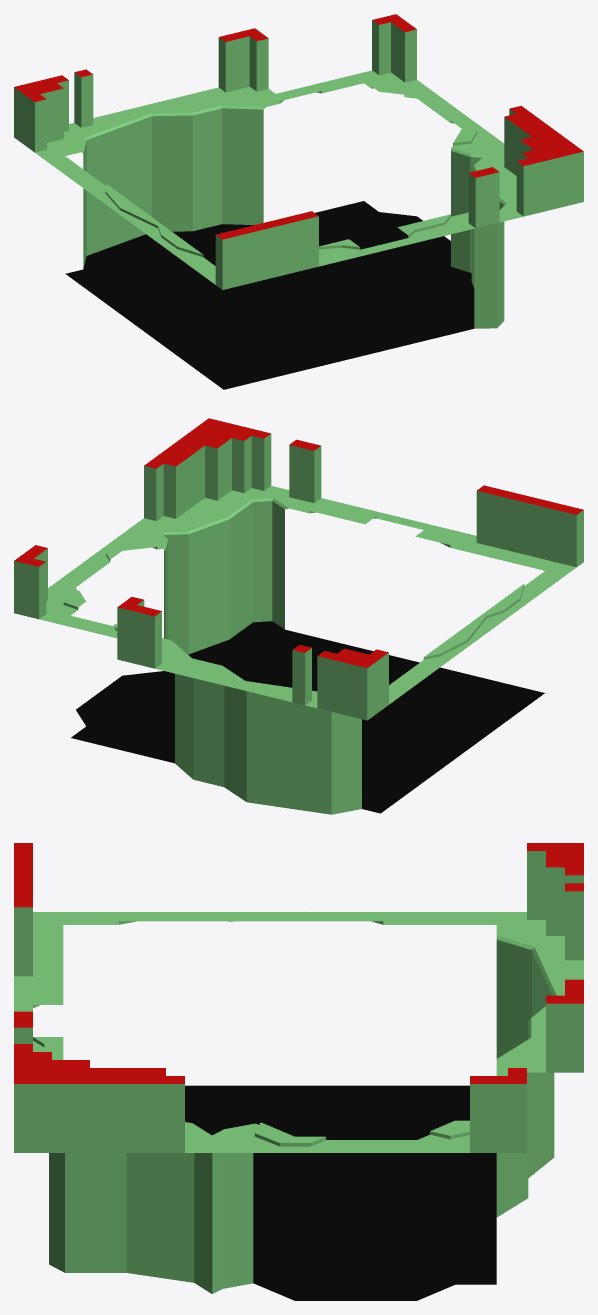
The model's file is x_oo_ground_54_K4_1_rmstrd.fbx.
The picture shows the model from 3 angles, top to bottom: view 1: azimuth 30°, elevation 25°; view 2: azimuth 150°, elevation 25°; view 3: azimuth 270°, elevation 25°; orthographic projection. The views are drawn at different scales.
Visible parts, largest first — view 1: x_oo_ground_54_K4_1_rmstrd1; view 2: x_oo_ground_54_K4_1_rmstrd1; view 3: x_oo_ground_54_K4_1_rmstrd1.
Part boxes in pixels (left/top/right/bottom): x_oo_ground_54_K4_1_rmstrd1: left=14, top=14, right=583, bottom=389; x_oo_ground_54_K4_1_rmstrd1: left=14, top=418, right=583, bottom=814; x_oo_ground_54_K4_1_rmstrd1: left=14, top=843, right=583, bottom=1300.
Bounding box in the file's own units: 30 × 13.34 × 30.
